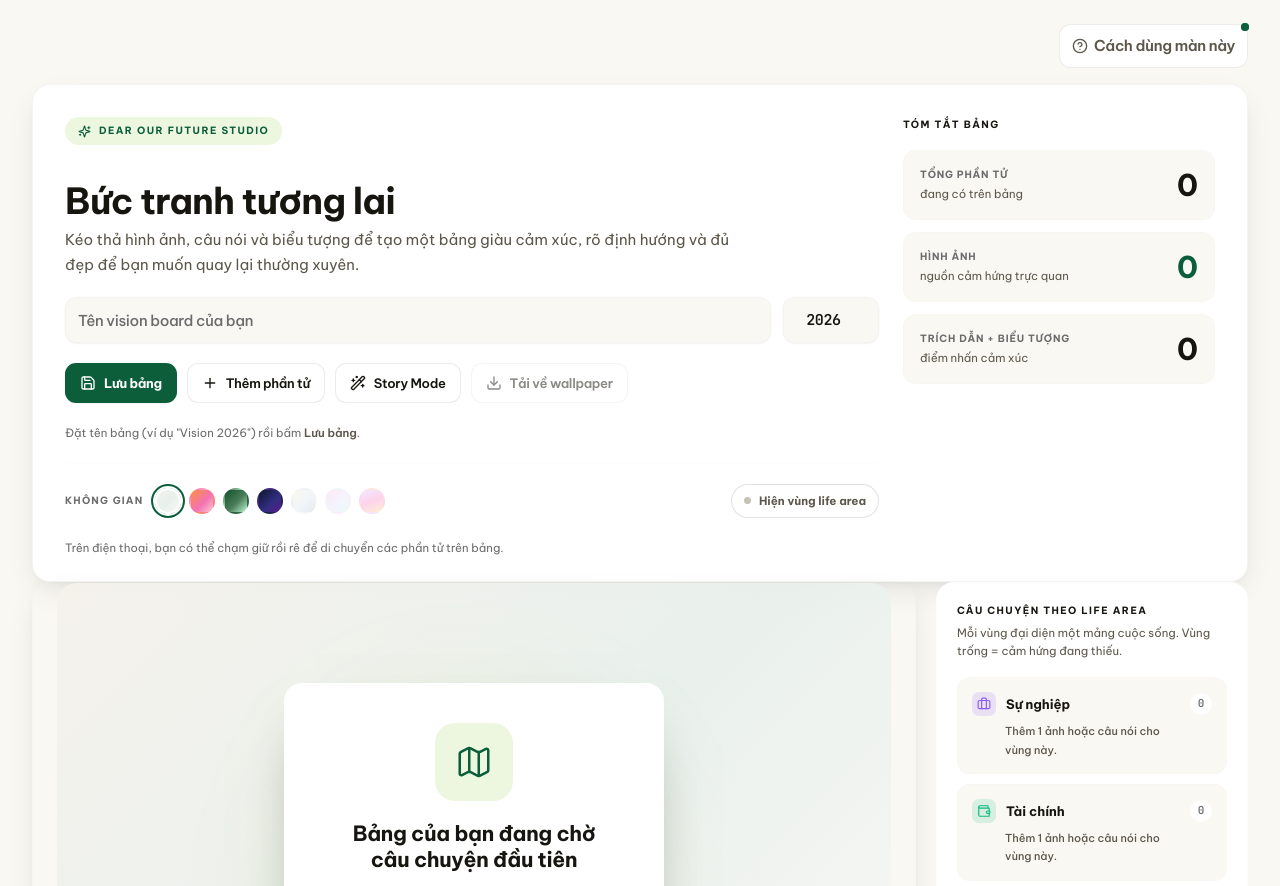
Test: VisionBoardEditor add dialog › shows goal empty state and navigation button
Click the button "Thêm phần tử" at (256, 383), box top-left (187, 363), bottom-right (325, 403)
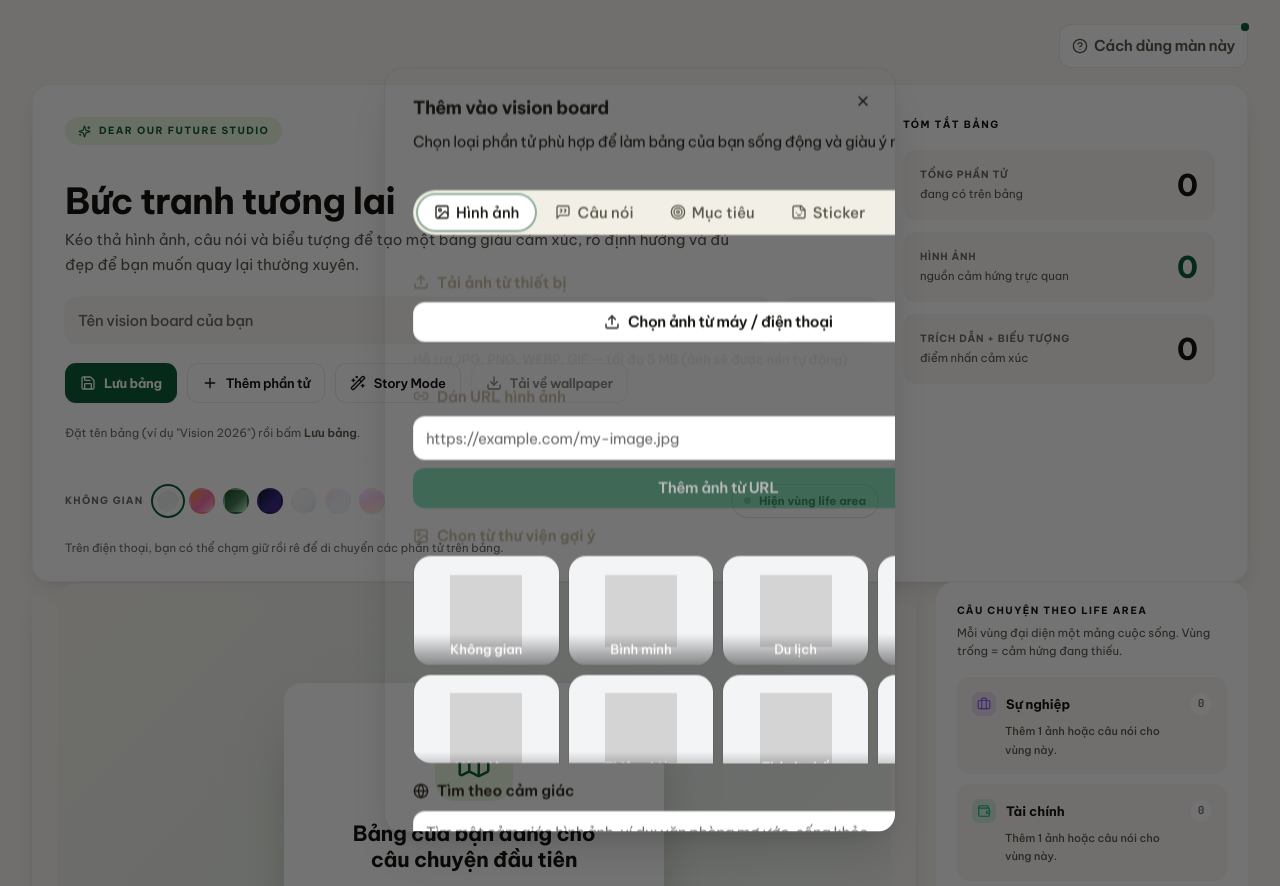
Click the tab "Mục tiêu" at (712, 212), box top-left (654, 194), bottom-right (771, 229)
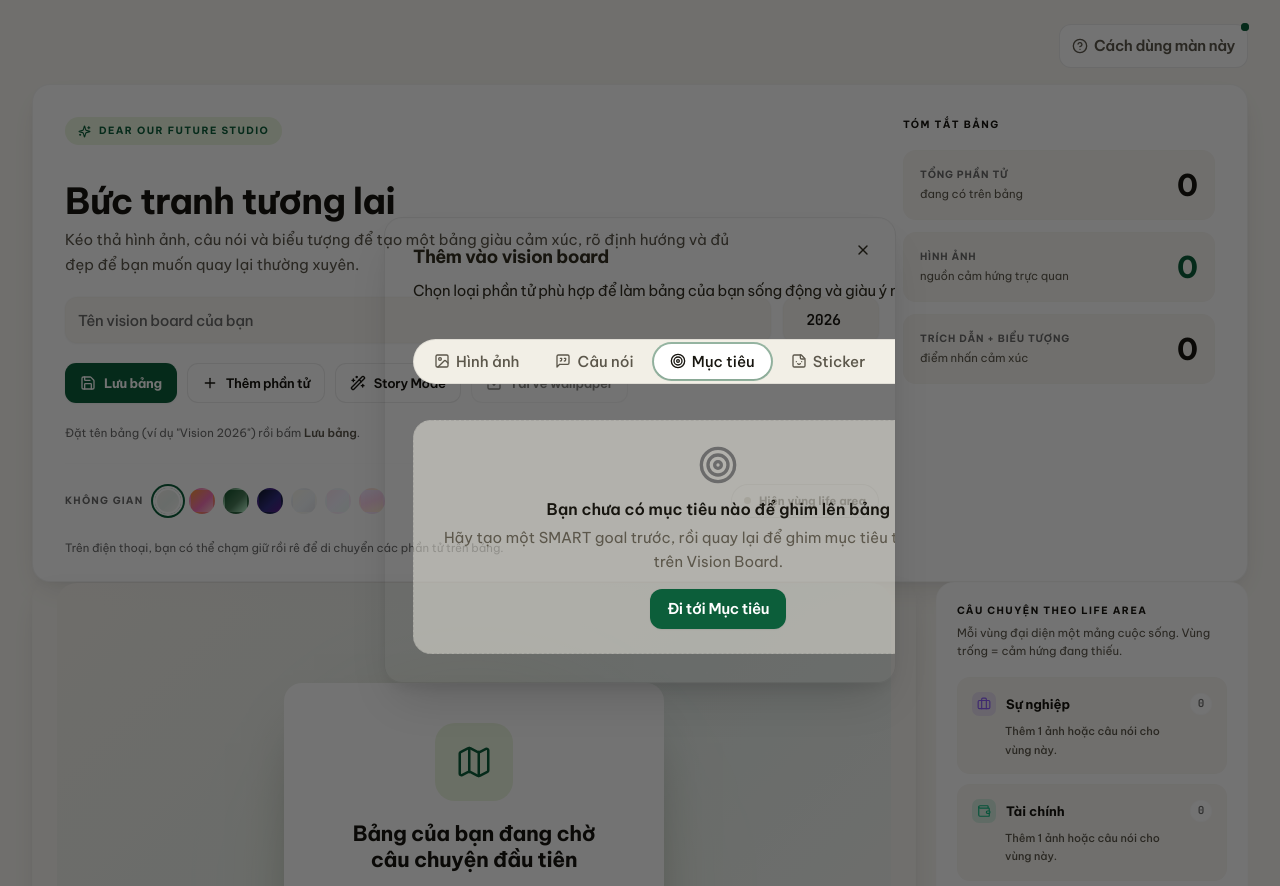
Result: the text "Bạn chưa có mục tiêu nào để ghim lên bảng" is shown at top-left (546, 499), bottom-right (890, 519)
Result: the button "Đi tới Mục tiêu" is shown at top-left (650, 589), bottom-right (786, 629)
